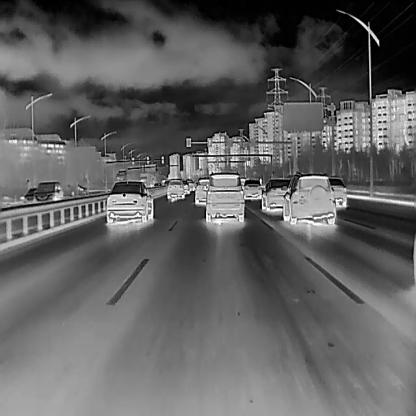car: (282, 173, 336, 228), (104, 179, 155, 226), (201, 171, 244, 221), (260, 176, 292, 213), (32, 180, 62, 206), (327, 176, 346, 207), (193, 177, 213, 205), (240, 176, 262, 199), (165, 178, 185, 198), (22, 186, 36, 202), (185, 177, 194, 189)
truck: (114, 167, 142, 186), (140, 172, 155, 186)
